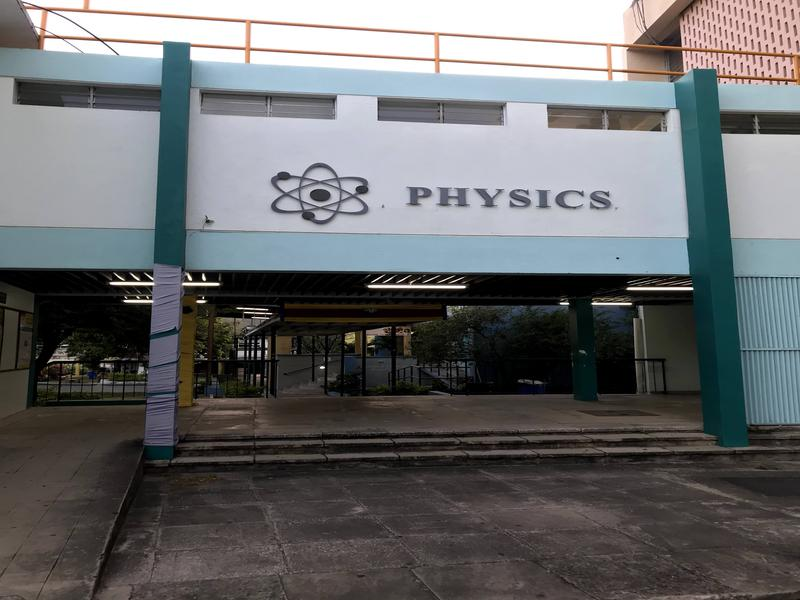18.0053657_-76.7491452_physicssign: (248, 147, 621, 228)
